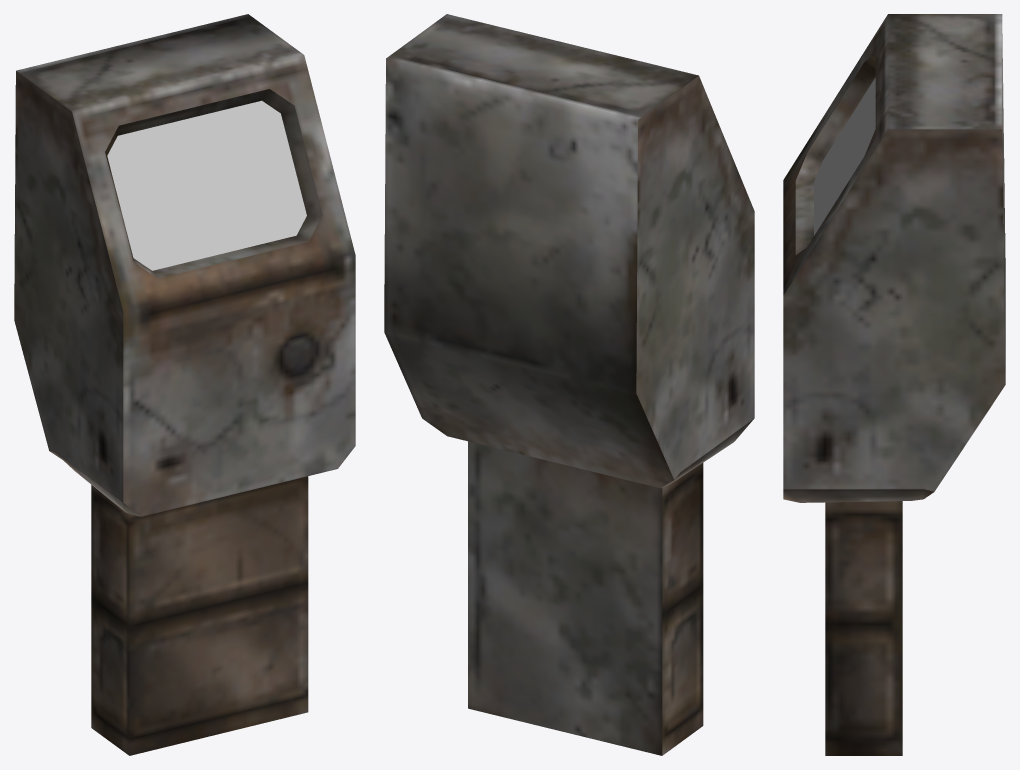
File: terminal_airlock_tau_small.dae
The picture shows the model from 3 angles, left to right: view 1: azimuth 30°, elevation 25°; view 2: azimuth 150°, elevation 25°; view 3: azimuth 270°, elevation 25°; orthographic projection. The views are drawn at different scales.
Visible parts, largest first — view 1: Mesh, Mesh__2_; view 2: Mesh; view 3: Mesh, Mesh__2_.
Part boxes in pixels (x1,y1,x2,y2): Mesh: (14,14,355,755); Mesh__2_: (107,100,306,270); Mesh: (384,14,754,755); Mesh: (783,14,1005,755); Mesh__2_: (814,77,875,235).
Size of the model in its own units: 0.5218 by 1.35 by 0.4245.
